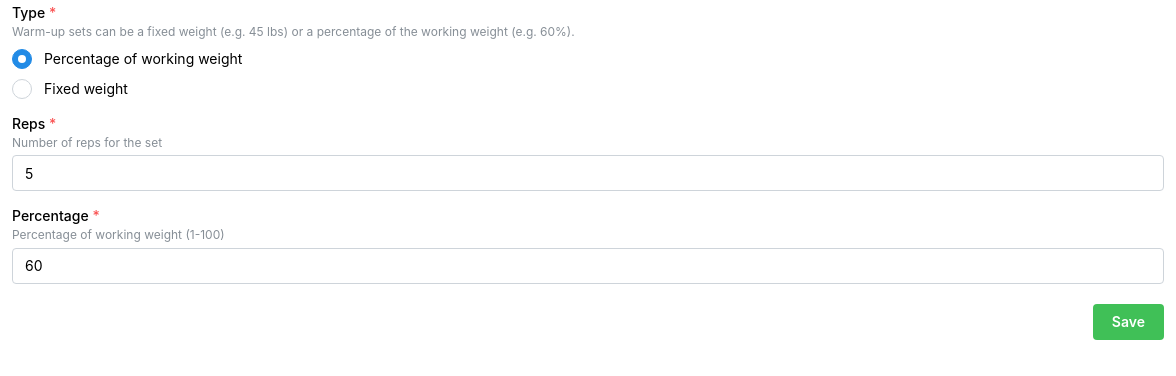
WarmUpSetForm › validation › disables the Save button when the value field is cleared
The width and height of the screenshot is (1176, 376).
Step 1. Clear the field labelled "Percentage" → (588, 266), box [12,248,1164,284]
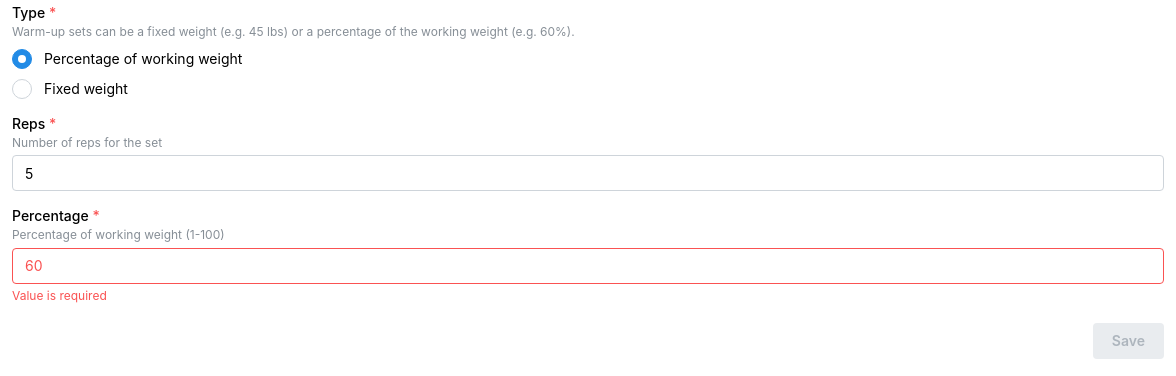
Now the button "Save" is disabled, box [1093,323,1164,359]
